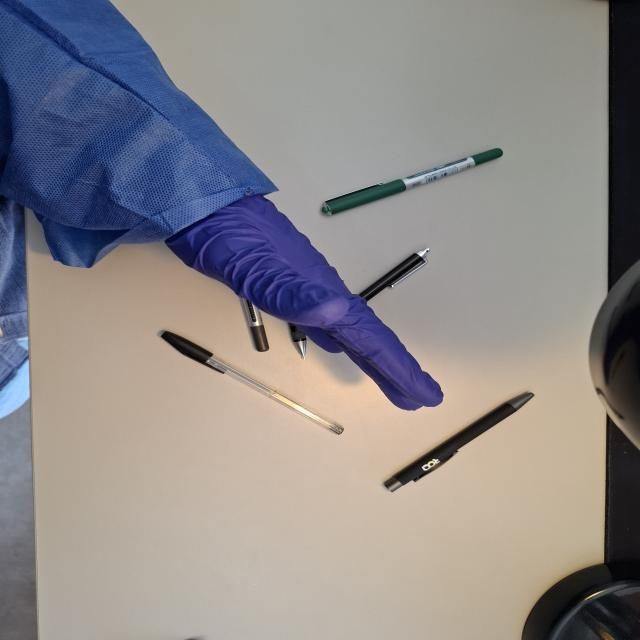glove_on: (163, 188, 447, 413)
